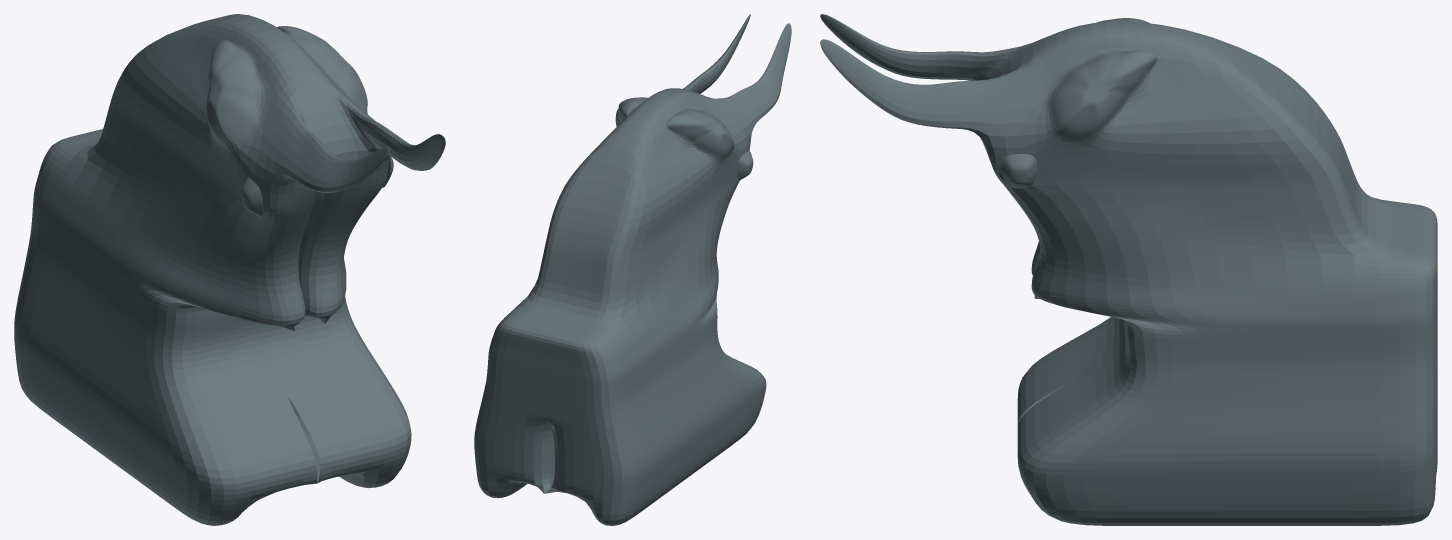
File: Cow Head.fbx
The picture shows the model from 3 angles, left to right: view 1: azimuth 30°, elevation 25°; view 2: azimuth 150°, elevation 25°; view 3: azimuth 270°, elevation 25°; orthographic projection. The views are drawn at different scales.
Parts seen in each view (by area): view 1: Cube; view 2: Cube; view 3: Cube.
Part boxes in pixels (x1,y1,x2,y2): Cube: (14, 14, 445, 525); Cube: (474, 14, 791, 525); Cube: (820, 14, 1437, 525).
Bounding box in the file's own units: 204 × 405 × 494.
